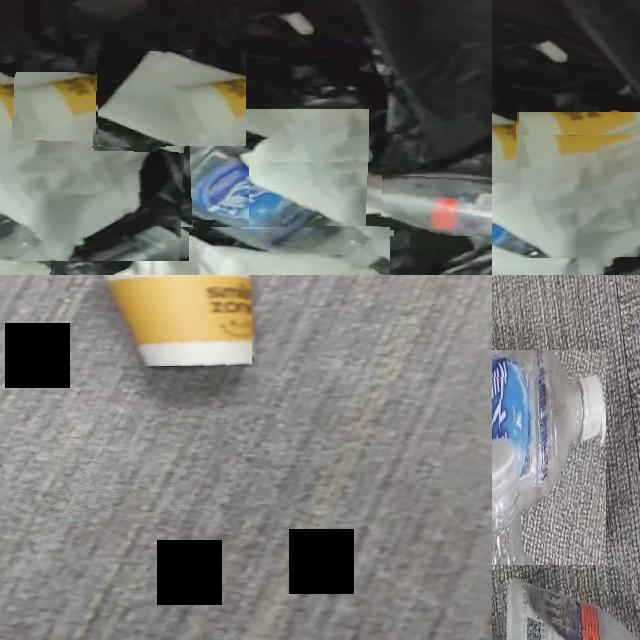bottle: (64, 109, 368, 255), (492, 350, 604, 513), (492, 135, 640, 219), (325, 175, 492, 236), (46, 221, 195, 275), (505, 580, 639, 640)
dixie_cup: (103, 275, 252, 366), (16, 72, 168, 137)
paper: (0, 67, 188, 261), (492, 112, 640, 275), (98, 51, 246, 147), (116, 227, 380, 275), (249, 162, 382, 228)
